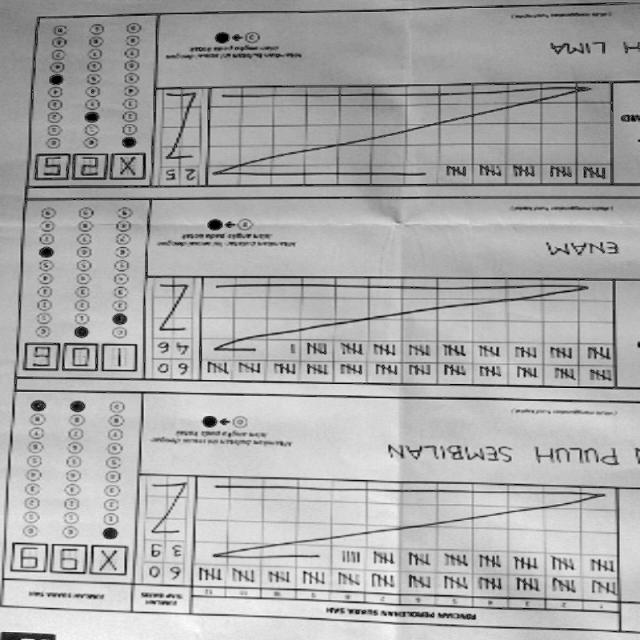Suara: (10, 540, 130, 582), (23, 342, 144, 374), (41, 152, 147, 182)
